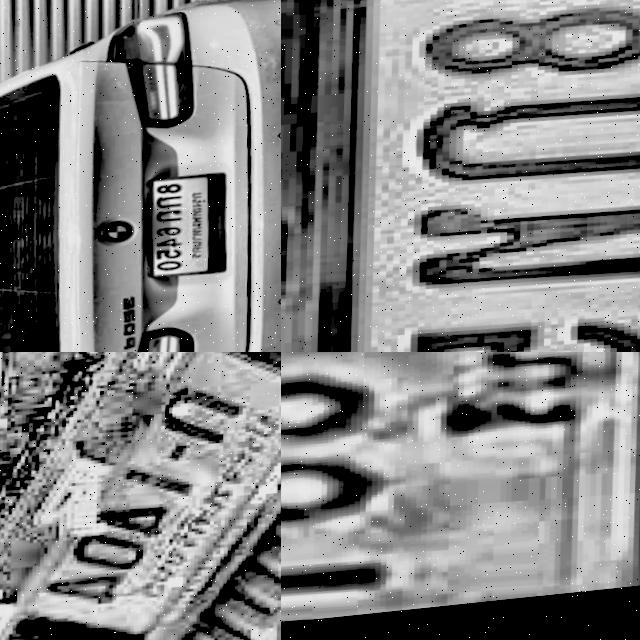license-plate: (281, 0, 640, 352), (281, 352, 640, 640), (0, 352, 281, 640), (140, 180, 218, 289)
